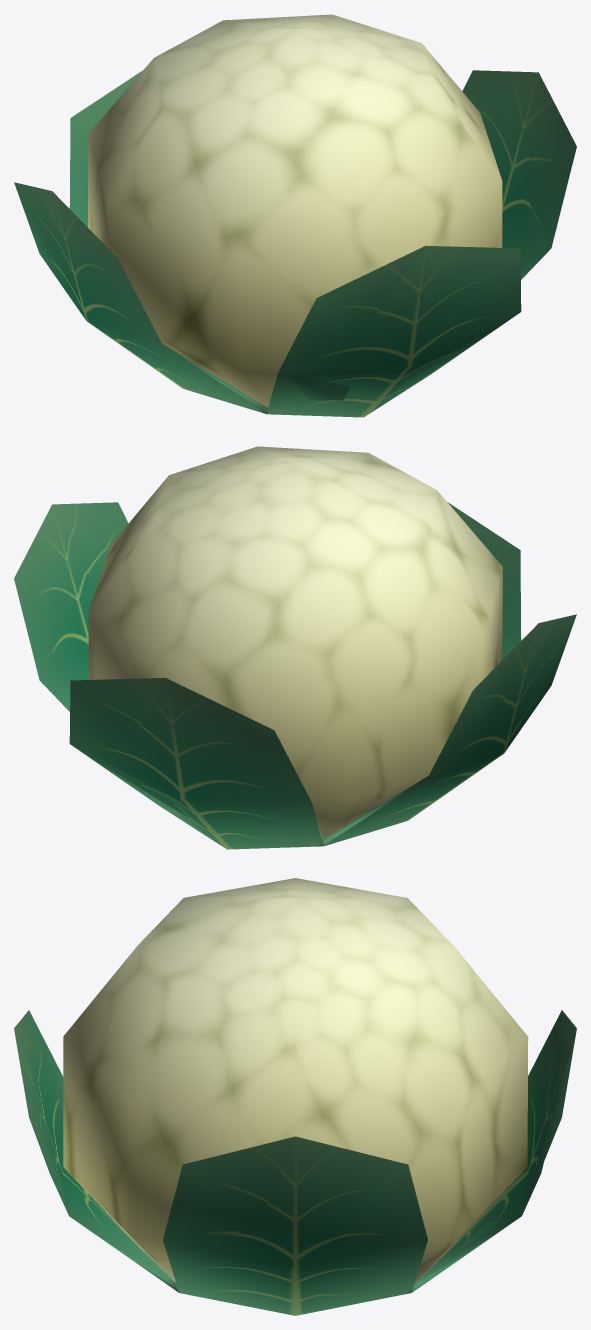
The model's file is 001-Cauliflower.FBX.
The picture shows the model from 3 angles, top to bottom: view 1: azimuth 30°, elevation 25°; view 2: azimuth 150°, elevation 25°; view 3: azimuth 270°, elevation 25°; orthographic projection. The views are drawn at different scales.
Visible parts, largest first — view 1: 001-Cauliflower; view 2: 001-Cauliflower; view 3: 001-Cauliflower.
Boxes of the visible parts, bbox=[...] form: 001-Cauliflower: bbox=[14, 14, 576, 417]; 001-Cauliflower: bbox=[14, 446, 576, 849]; 001-Cauliflower: bbox=[14, 878, 576, 1315].
Bounding box in the file's own units: 28.71 × 18.87 × 26.57.
